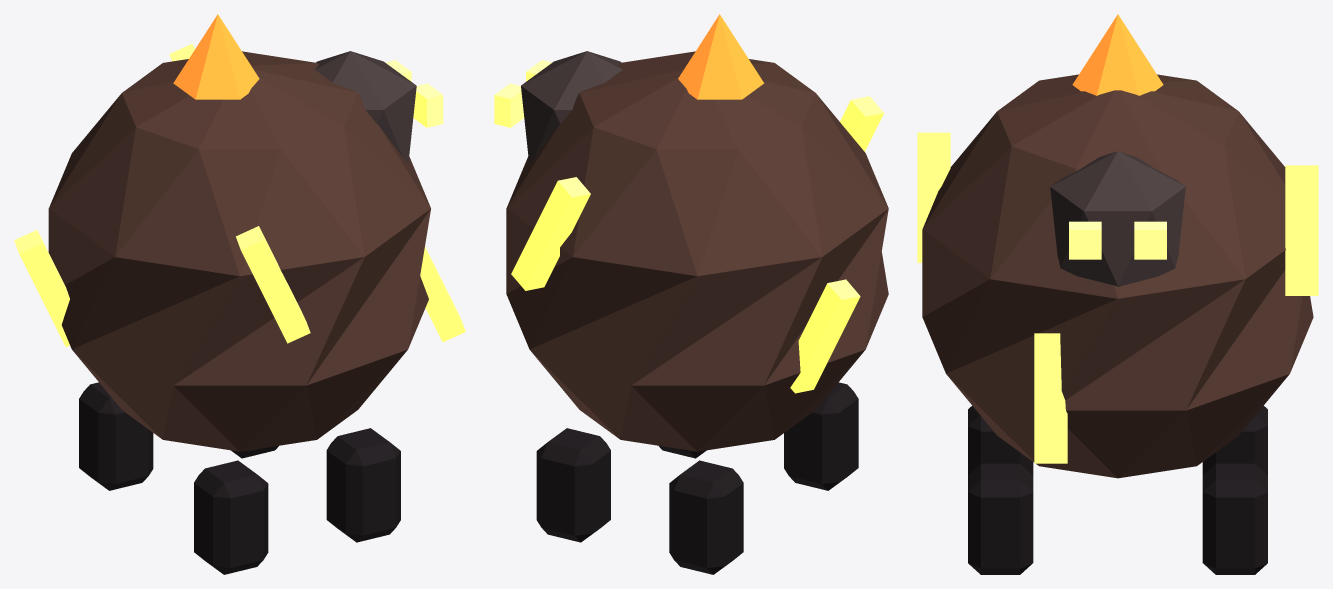
The model's file is burster.glb.
3 views of the same model, side by side, from view 1: azimuth 30°, elevation 25°; view 2: azimuth 150°, elevation 25°; view 3: azimuth 270°, elevation 25° (orthographic). The views are drawn at different scales.
Parts seen in each view (by area): view 1: burster; view 2: burster; view 3: burster.
Part boxes in pixels (x1,y1,x2,y2): burster: [14, 14, 465, 574]; burster: [494, 14, 888, 574]; burster: [917, 14, 1318, 574].
Size of the model in its own units: 0.6948 by 0.86 by 0.6151.
